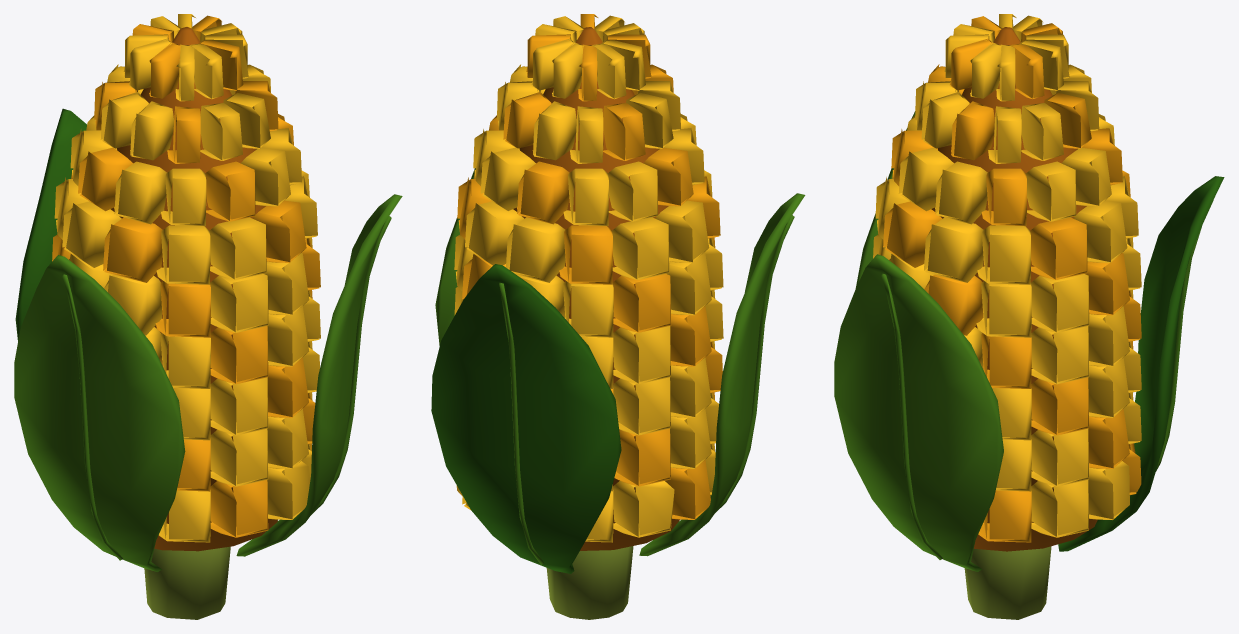
Rendered from corn.glb.
3 renders of one model, left to right at view 1: azimuth 30°, elevation 25°; view 2: azimuth 150°, elevation 25°; view 3: azimuth 270°, elevation 25°, orthographic.
Visible parts, largest first — view 1: corn.001; view 2: corn.001; view 3: corn.001.
Part boxes in pixels (<box>): corn.001: <box>14,14,402,619</box>; corn.001: <box>431,14,805,619</box>; corn.001: <box>834,14,1224,619</box>.
Bounding box in the file's own units: 0.6043 × 1 × 0.6154.
Materials: 1 (1 with a texture image).
